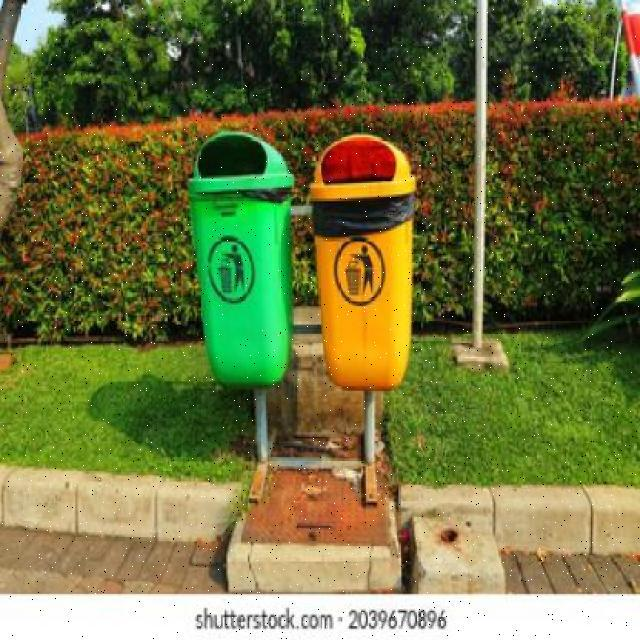garbage container: (300, 120, 431, 408), (185, 125, 301, 406)
